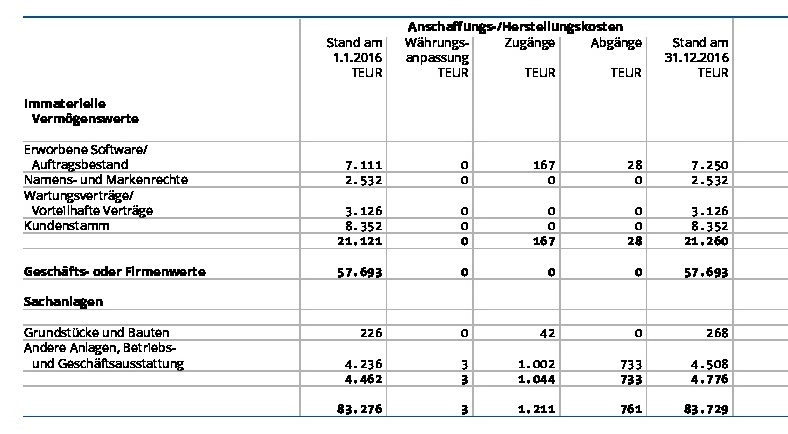table: (0, 0, 788, 434)
